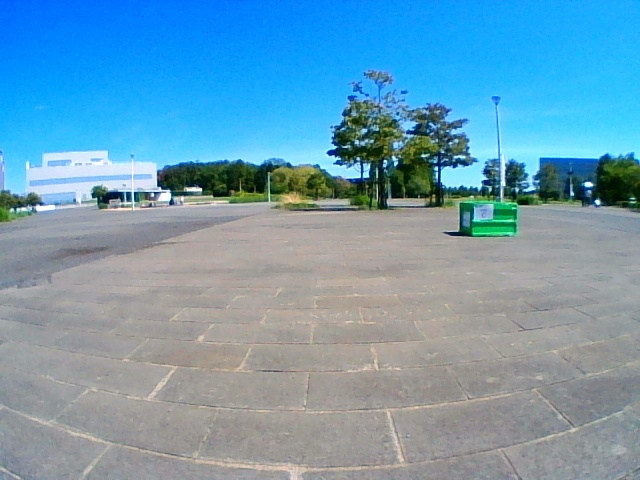green_box: (459, 201, 516, 236)
tag: (474, 205, 492, 220)
